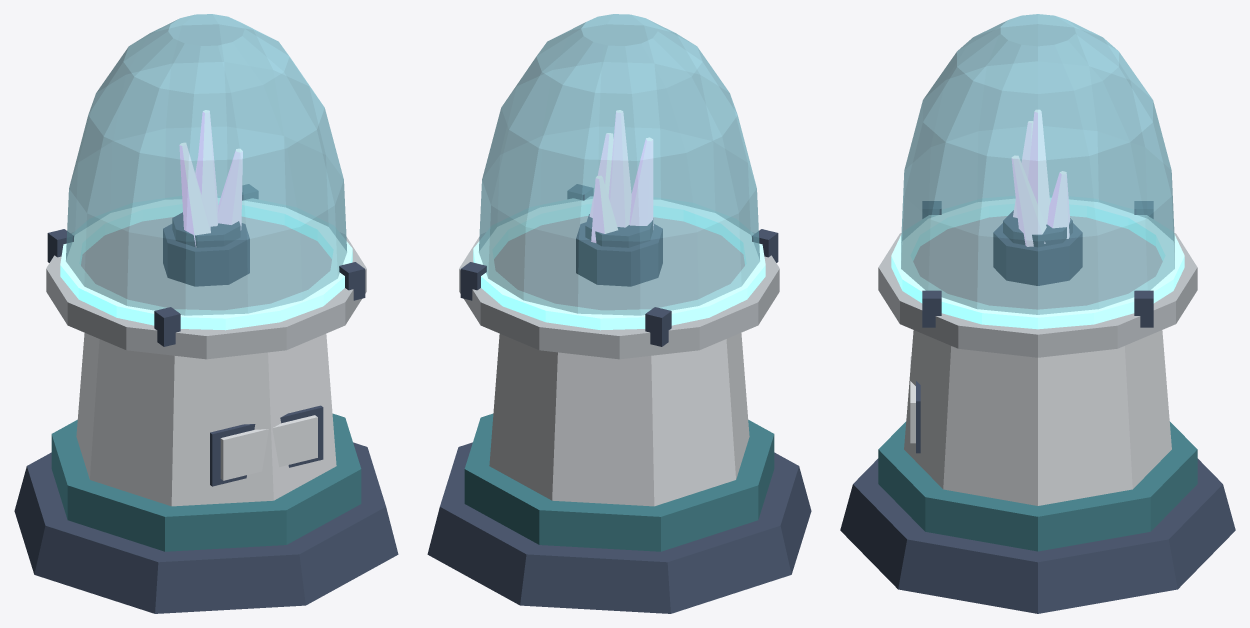
3 renders of one model, left to right at view 1: azimuth 30°, elevation 25°; view 2: azimuth 150°, elevation 25°; view 3: azimuth 270°, elevation 25°, orthographic.
Parts seen in each view (by area): view 1: DL013_DiscoveryDisplay_glass_cyan, DL013_DiscoveryDisplay_graphite_navy, DL013_DiscoveryDisplay_hull_offwhite, DL013_DiscoveryDisplay_titanium, DL013_DiscoveryDisplay_teal_shell, DL013_DiscoveryDisplay_emissive_cyan, DL013_DiscoveryDisplay_emissive_violet; view 2: DL013_DiscoveryDisplay_glass_cyan, DL013_DiscoveryDisplay_hull_offwhite, DL013_DiscoveryDisplay_graphite_navy, DL013_DiscoveryDisplay_titanium, DL013_DiscoveryDisplay_teal_shell, DL013_DiscoveryDisplay_emissive_cyan, DL013_DiscoveryDisplay_emissive_violet; view 3: DL013_DiscoveryDisplay_glass_cyan, DL013_DiscoveryDisplay_hull_offwhite, DL013_DiscoveryDisplay_graphite_navy, DL013_DiscoveryDisplay_titanium, DL013_DiscoveryDisplay_teal_shell, DL013_DiscoveryDisplay_emissive_cyan, DL013_DiscoveryDisplay_emissive_violet.
Part boxes in pixels (<box>): DL013_DiscoveryDisplay_glass_cyan: <box>66,14,346,315</box>; DL013_DiscoveryDisplay_graphite_navy: <box>14,184,398,613</box>; DL013_DiscoveryDisplay_hull_offwhite: <box>76,333,336,506</box>; DL013_DiscoveryDisplay_titanium: <box>46,216,366,359</box>; DL013_DiscoveryDisplay_teal_shell: <box>51,413,361,551</box>; DL013_DiscoveryDisplay_emissive_cyan: <box>60,196,352,330</box>; DL013_DiscoveryDisplay_emissive_violet: <box>179,110,242,246</box>; DL013_DiscoveryDisplay_glass_cyan: <box>479,14,759,315</box>; DL013_DiscoveryDisplay_hull_offwhite: <box>489,333,749,506</box>; DL013_DiscoveryDisplay_graphite_navy: <box>427,184,811,613</box>; DL013_DiscoveryDisplay_titanium: <box>459,216,779,359</box>; DL013_DiscoveryDisplay_teal_shell: <box>464,413,774,551</box>; DL013_DiscoveryDisplay_emissive_cyan: <box>473,196,765,330</box>; DL013_DiscoveryDisplay_emissive_violet: <box>589,110,653,242</box>; DL013_DiscoveryDisplay_glass_cyan: <box>901,14,1174,314</box>; DL013_DiscoveryDisplay_hull_offwhite: <box>904,330,1171,505</box>; DL013_DiscoveryDisplay_graphite_navy: <box>840,201,1235,613</box>; DL013_DiscoveryDisplay_titanium: <box>878,216,1197,357</box>; DL013_DiscoveryDisplay_teal_shell: <box>878,421,1197,551</box>; DL013_DiscoveryDisplay_emissive_cyan: <box>891,195,1184,329</box>; DL013_DiscoveryDisplay_emissive_violet: <box>1011,109,1070,246</box>.
Bounding box in the file's own units: 1.24 × 1.73 × 1.24.
